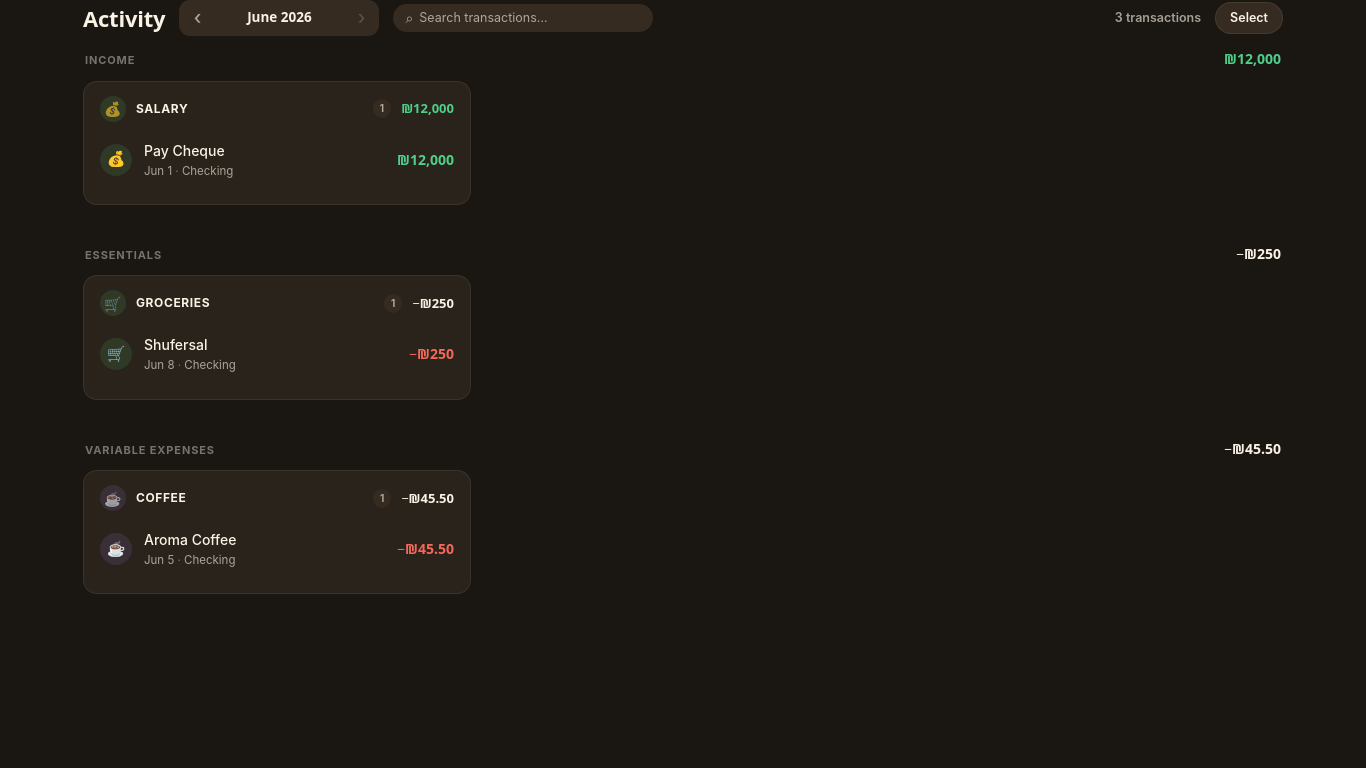
ActivityView — category move › Save is disabled when the selected category equals the current one
Click the text "Aroma Coffee" at (190, 540), box [144,531,236,548]
(page scrolled)
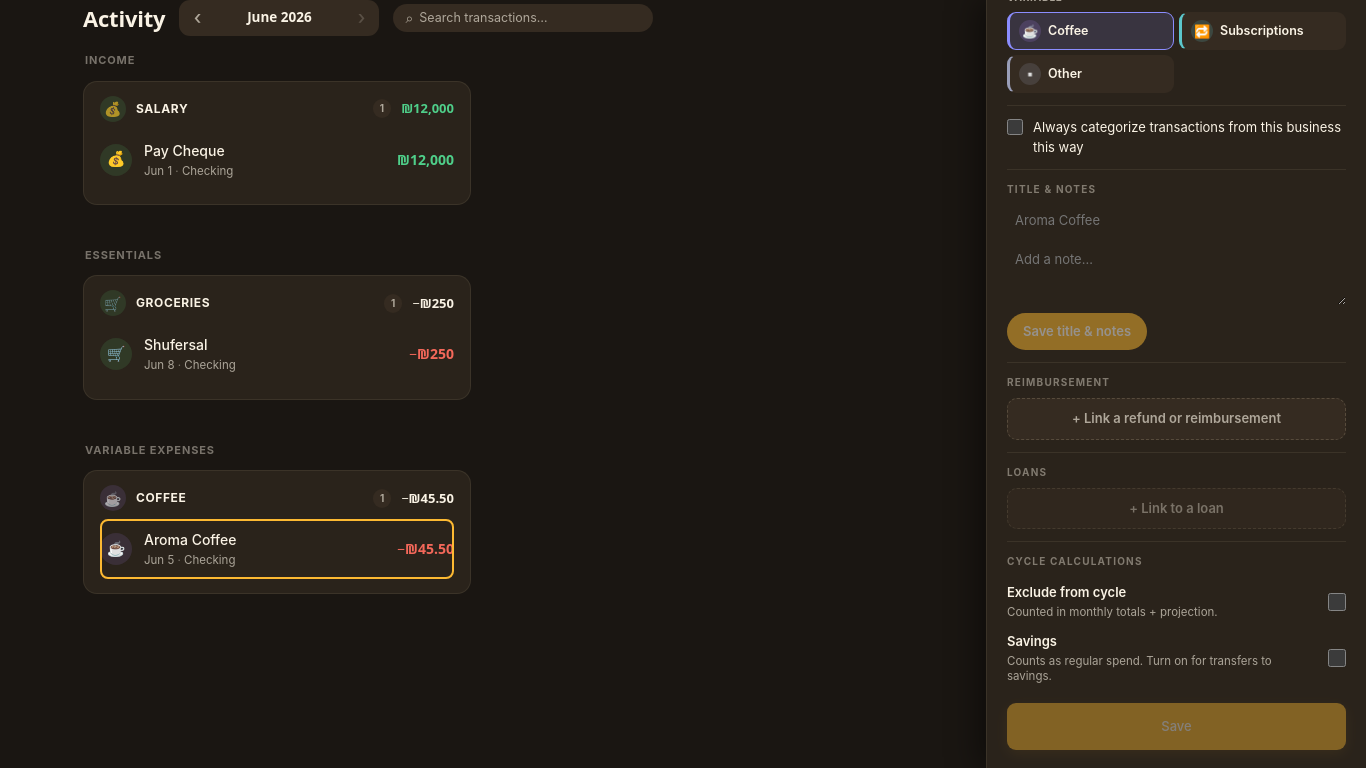
Check: the button "Save" is disabled, box [1007,702,1346,750]
